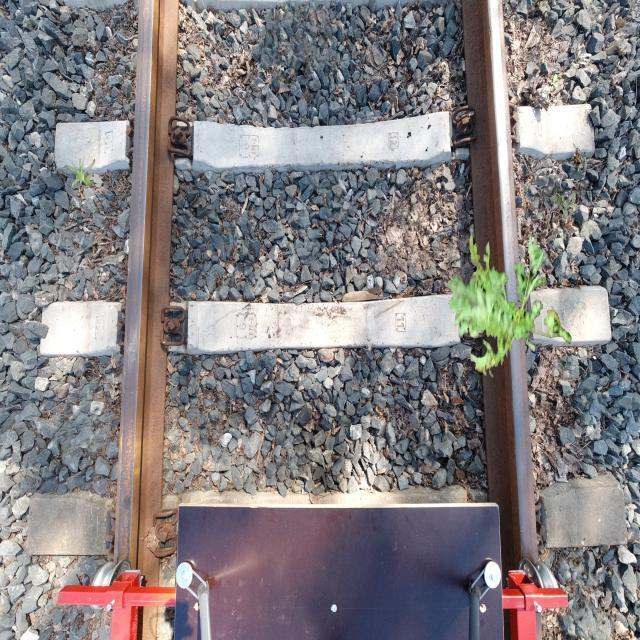Plant: (447, 231, 572, 378), (63, 155, 96, 190), (552, 189, 580, 220)
